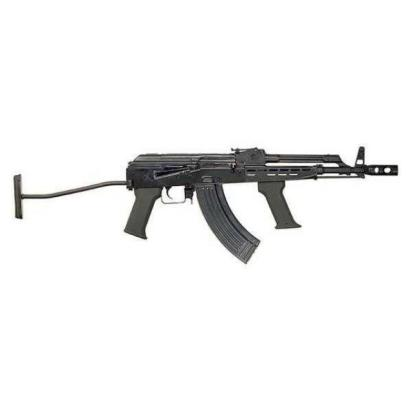Gun: (15, 112, 403, 270)
